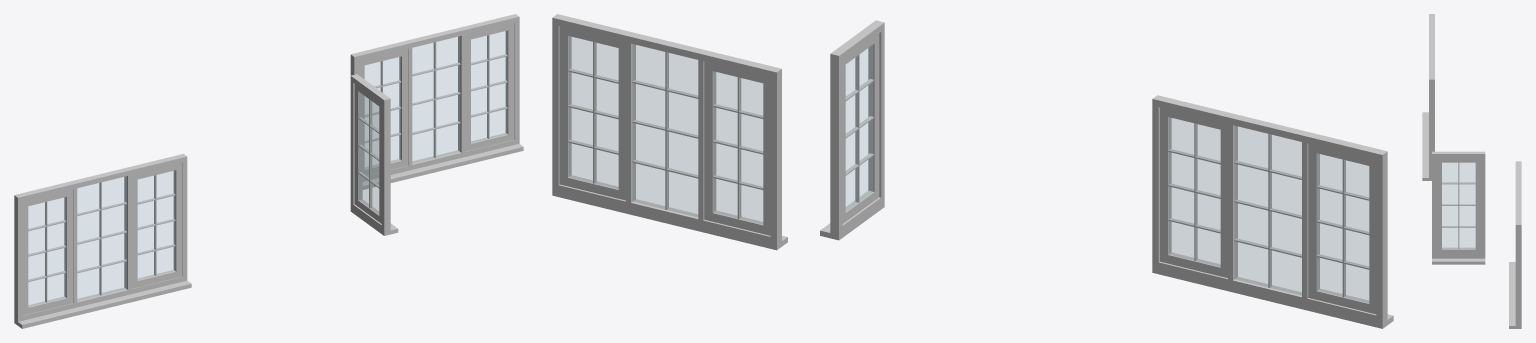
Rendered from NP03__Storey__GroundFloor__ProposedWindows__MeshModel__.glb.
3 views of the same model, side by side, from view 1: azimuth 30°, elevation 25°; view 2: azimuth 150°, elevation 25°; view 3: azimuth 270°, elevation 25° (orthographic). The views are drawn at different scales.
Parts seen in each view (by area): view 1: 24__ProposedBuilding__Windows::Default, 24__ProposedBuilding__Windows::MAT101__Glass__ClearDefault; view 2: 24__ProposedBuilding__Windows::Default, 24__ProposedBuilding__Windows::MAT101__Glass__ClearDefault; view 3: 24__ProposedBuilding__Windows::Default, 24__ProposedBuilding__Windows::MAT101__Glass__ClearDefault.
Part boxes in pixels (box(x1,y1,x2,y2)): 24__ProposedBuilding__Windows::Default: box(14, 14, 523, 328); 24__ProposedBuilding__Windows::MAT101__Glass__ClearDefault: box(28, 31, 507, 306); 24__ProposedBuilding__Windows::Default: box(552, 14, 1393, 328); 24__ProposedBuilding__Windows::MAT101__Glass__ClearDefault: box(569, 36, 1368, 302); 24__ProposedBuilding__Windows::Default: box(1422, 14, 1521, 328); 24__ProposedBuilding__Windows::MAT101__Glass__ClearDefault: box(1442, 163, 1475, 248).
Size of the model in its own units: 5.96 by 1.39 by 1.17.
